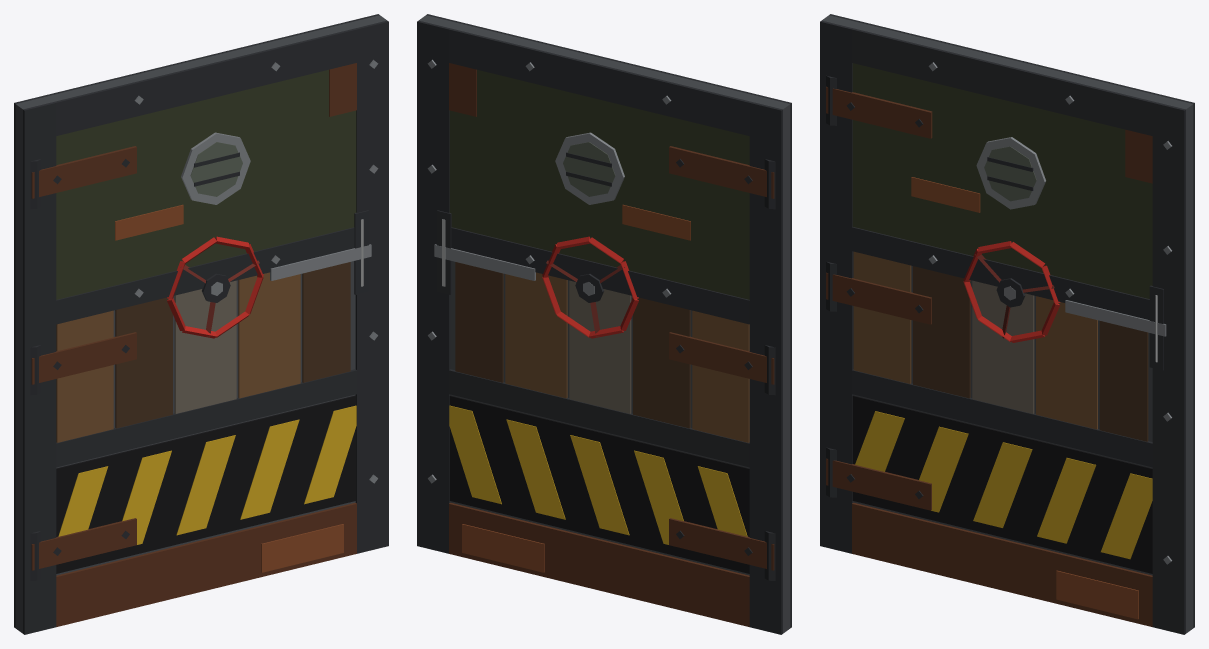
File: door_leaf.fbx
3 renders of one model, left to right at view 1: azimuth 30°, elevation 25°; view 2: azimuth 150°, elevation 25°; view 3: azimuth 330°, elevation 25°, orthographic.
Parts seen in each view (by area): view 1: door_leaf; view 2: door_leaf; view 3: door_leaf.
Boxes of the visible parts, x1=… form: door_leaf: x1=14, y1=14, x2=388, y2=634; door_leaf: x1=417, y1=14, x2=791, y2=634; door_leaf: x1=820, y1=14, x2=1194, y2=634.
Size of the model in its own units: 1.6 by 2.2 by 0.1.
